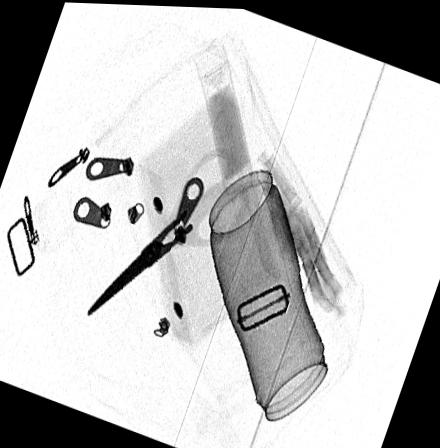Scissors: (85, 145, 249, 316)
